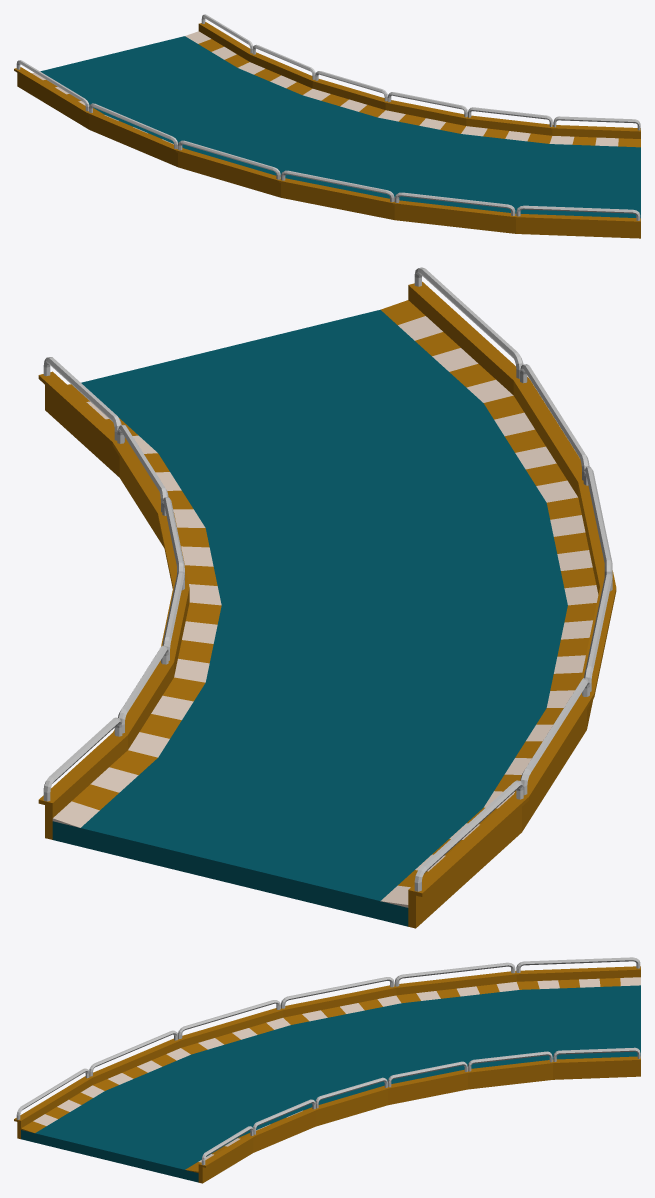
File: curveLeft-60_l.FBX
3 renders of one model, top to bottom at view 1: azimuth 30°, elevation 25°; view 2: azimuth 150°, elevation 25°; view 3: azimuth 270°, elevation 25°, orthographic. The views are drawn at different scales.
Visible parts, largest first — view 1: curveLeft-60_l, wall_r, wall_l, curbs_l; view 2: curveLeft-60_l, wall_r, curbs_r, wall_l, curbs_l; view 3: curveLeft-60_l, wall_l, wall_r, curbs_r.
Boxes of the visible parts, bbox=[...] form: curveLeft-60_l: bbox=[40, 36, 640, 218]; wall_r: bbox=[14, 60, 640, 238]; wall_l: bbox=[198, 14, 640, 138]; curbs_l: bbox=[185, 31, 640, 147]; curveLeft-60_l: bbox=[52, 309, 567, 926]; wall_r: bbox=[408, 267, 616, 928]; curbs_r: bbox=[380, 300, 598, 907]; wall_l: bbox=[38, 357, 189, 839]; curbs_l: bbox=[52, 384, 221, 827]; curveLeft-60_l: bbox=[21, 985, 640, 1182]; wall_l: bbox=[198, 1047, 640, 1183]; wall_r: bbox=[14, 957, 640, 1139]; curbs_r: bbox=[21, 977, 640, 1133].
Size of what is drawn, in the model's own units: 442 by 29.31 by 586.
